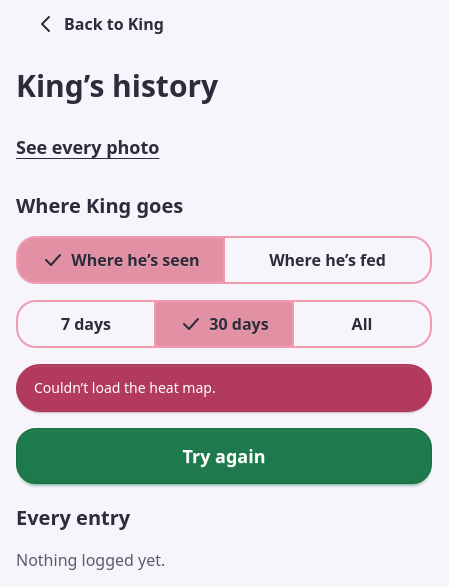
Test case: HistoryPage — heat map › says so when the heat map can’t be loaded, and can try again
Expected: the message reads "Couldn’t load the heat map.", [34,378,216,397]
Click the button "Try again": x=224, y=456 [16,428,432,484]
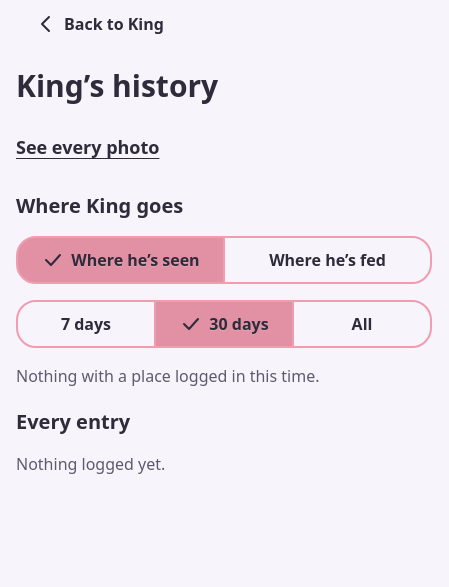
Result: the text "Nothing with a place logged in this time." is shown at [16,365,320,387]
Result: the message "Couldn’t load the heat map." is gone
